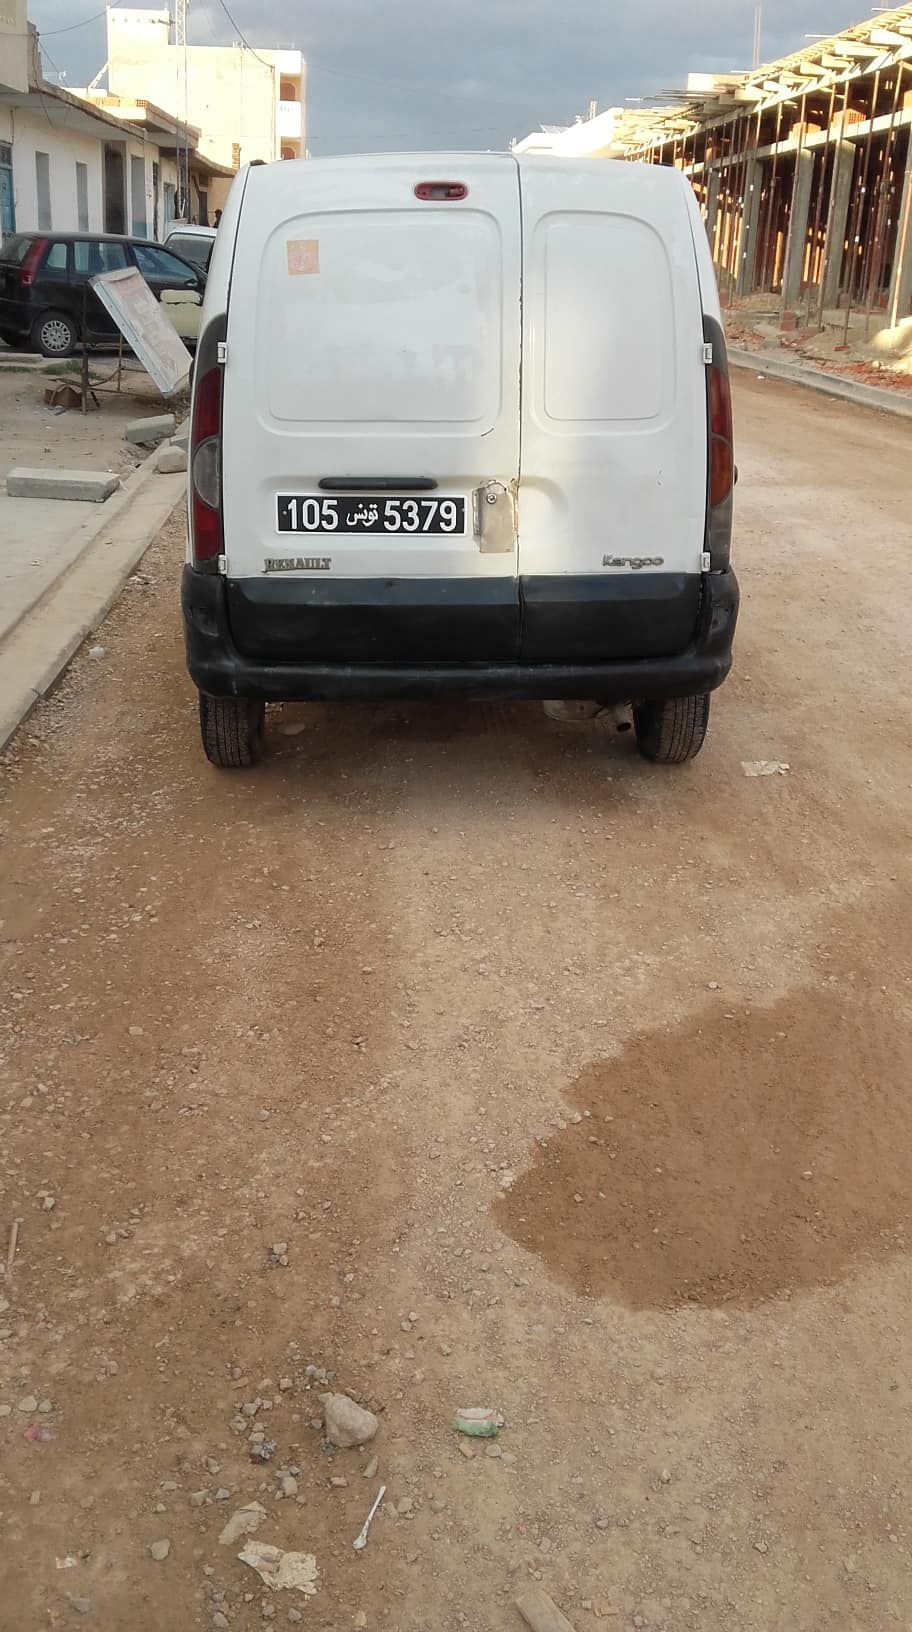LP: (273, 492, 468, 538)
